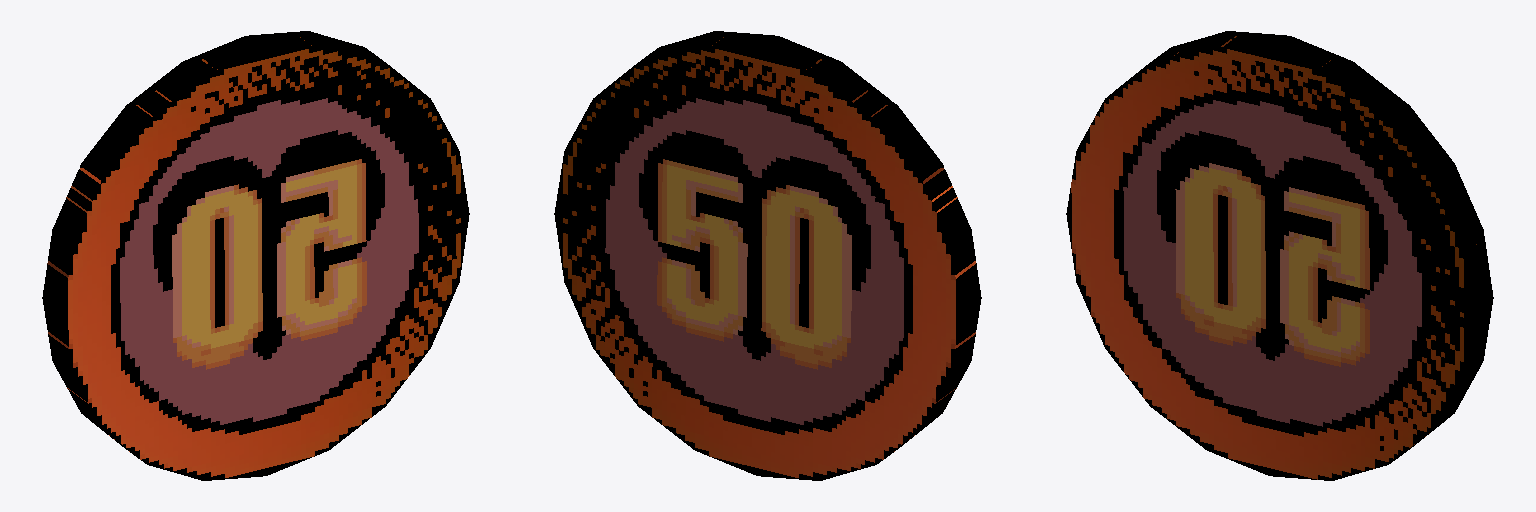
3 renders of one model, left to right at view 1: azimuth 30°, elevation 25°; view 2: azimuth 150°, elevation 25°; view 3: azimuth 330°, elevation 25°, orthographic.
Bounding box in the file's own units: 0.96 × 0.96 × 0.0855.
1 materials, 1 textured.